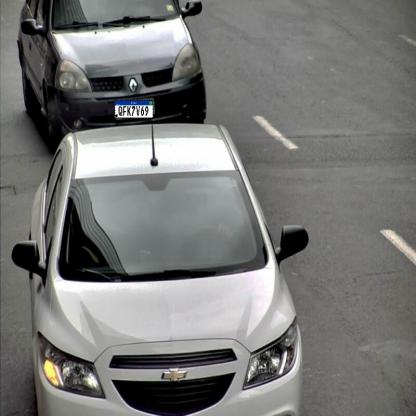PlacaM: (115, 100, 154, 118)
